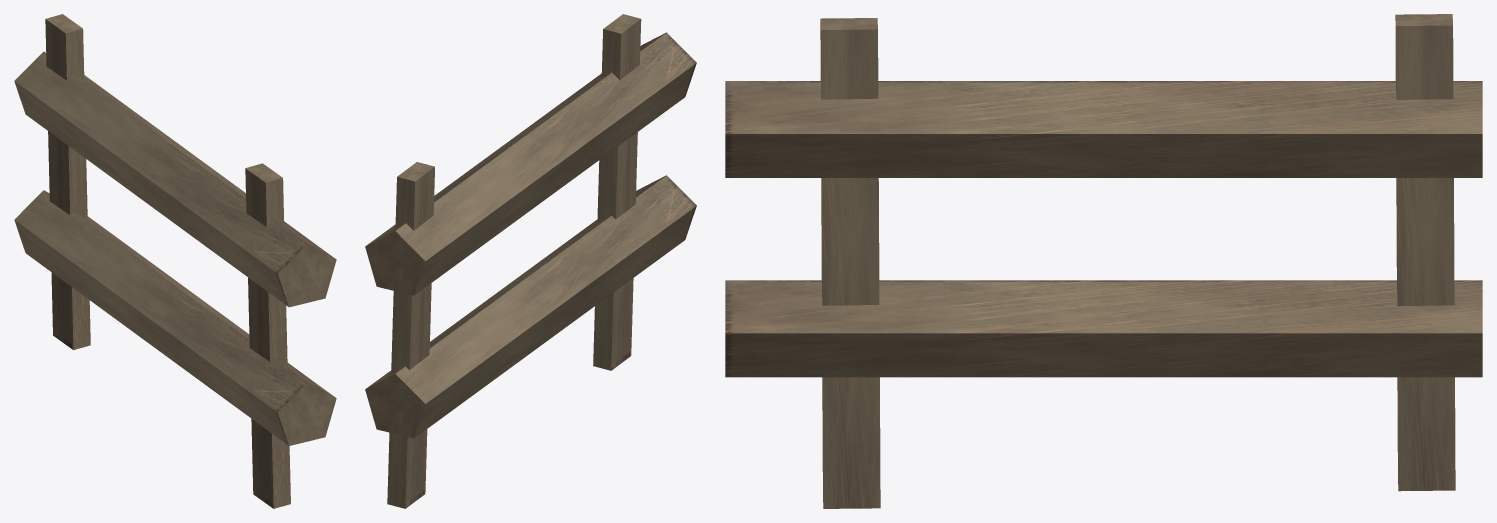
File: fence_wood.obj
3 renders of one model, left to right at view 1: azimuth 30°, elevation 25°; view 2: azimuth 150°, elevation 25°; view 3: azimuth 270°, elevation 25°, orthographic. The views are drawn at different scales.
Visible parts, largest first — view 1: Cylinder.001, Cylinder, Cube.012_Cube.017, Cube.010; view 2: Cylinder.001, Cylinder, Cube.010, Cube.012_Cube.017; view 3: Cylinder, Cylinder.001, Cube.012_Cube.017, Cube.010.
Boxes of the visible parts, x1,y1,x2,y2 form: Cylinder.001: [14, 190, 336, 445]; Cylinder: [14, 51, 336, 307]; Cube.012_Cube.017: [245, 163, 290, 508]; Cube.010: [45, 14, 90, 349]; Cylinder.001: [365, 175, 696, 438]; Cylinder: [365, 32, 696, 295]; Cube.010: [387, 162, 434, 508]; Cube.012_Cube.017: [593, 14, 641, 370]; Cylinder: [725, 81, 1482, 177]; Cylinder.001: [725, 280, 1482, 377]; Cube.012_Cube.017: [820, 18, 880, 508]; Cube.010: [1395, 14, 1455, 491].
Size of the model in its own units: 0.7957 by 4.3 by 6.18.
Materials: 4 (4 with a texture image).
